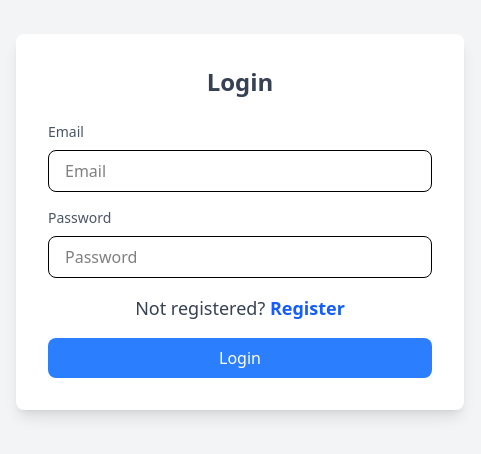
Test: Login Component › shows an error message on 401
Type "wrong@example.com" into the field with placeholder "Email" at point(240, 171), box [48, 150, 432, 192]
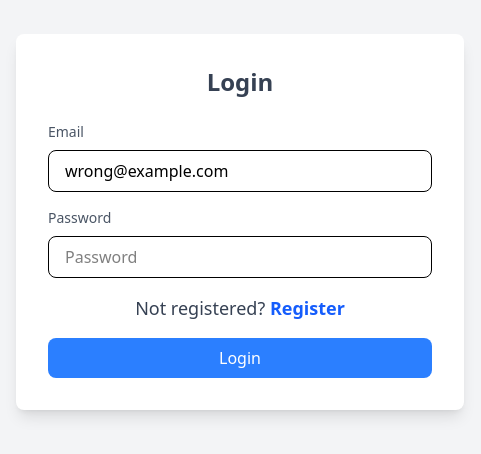
Type "wrongpass" into the password field with placeholder "Password" at point(240, 257), box [48, 236, 432, 278]
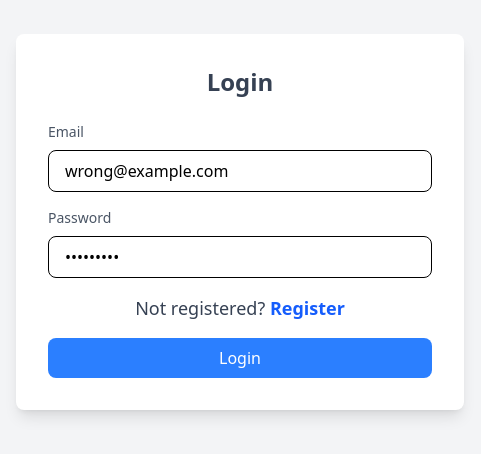
Click the button "Login" at point(240, 358), box [48, 338, 432, 378]
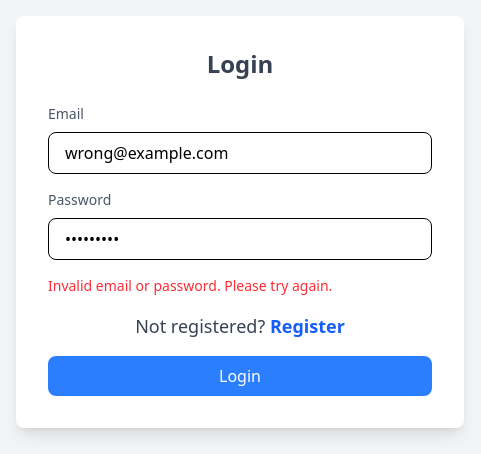
Now the text "Invalid email or password. Please try again." is shown, box [48, 276, 332, 295]
